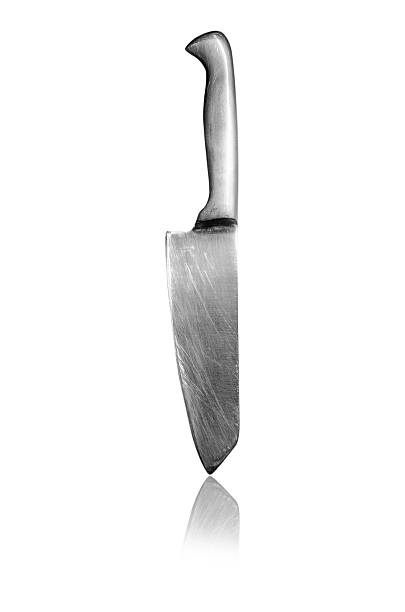k1: (159, 182, 248, 479)
